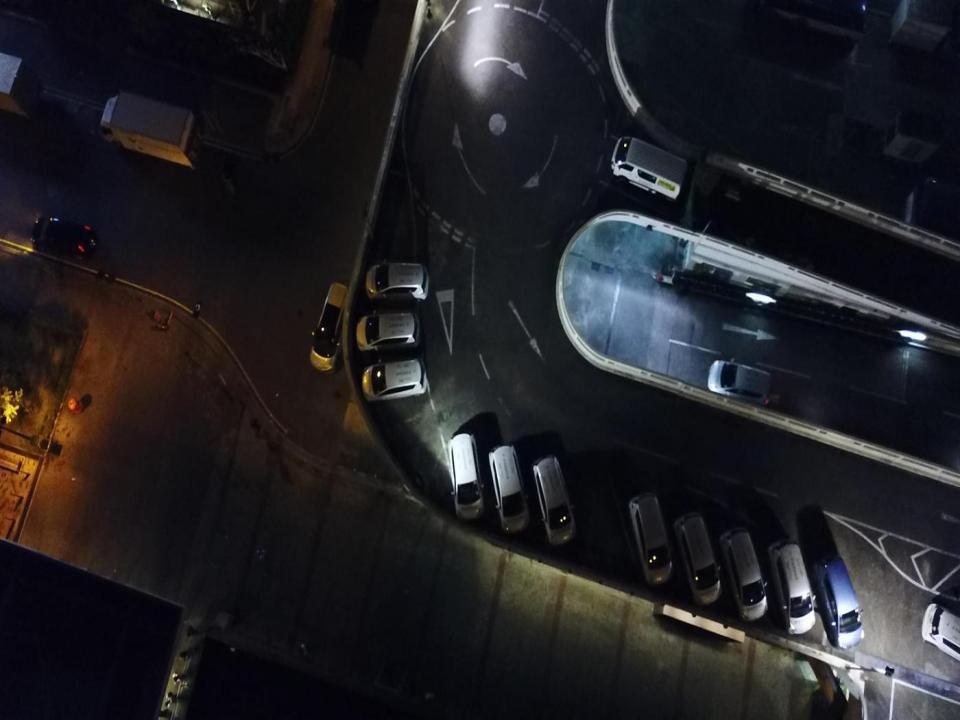car: (767, 538, 815, 634), (814, 554, 864, 646), (722, 529, 769, 624), (675, 516, 722, 608), (630, 490, 673, 588), (534, 455, 578, 549), (489, 444, 532, 533), (707, 358, 773, 409), (450, 431, 485, 523), (32, 218, 96, 262), (362, 361, 426, 403), (921, 603, 960, 666), (356, 314, 420, 352), (365, 264, 430, 301)
truck: (100, 94, 204, 173)
van: (611, 137, 687, 203), (310, 283, 351, 375)
